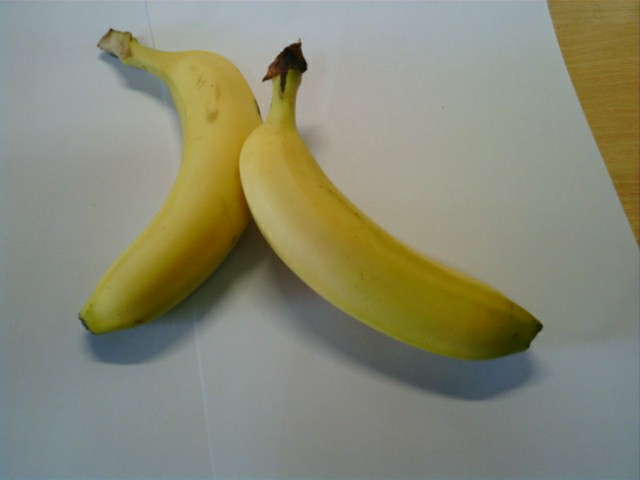fresh_banana: (239, 108, 543, 362), (73, 32, 267, 326)
